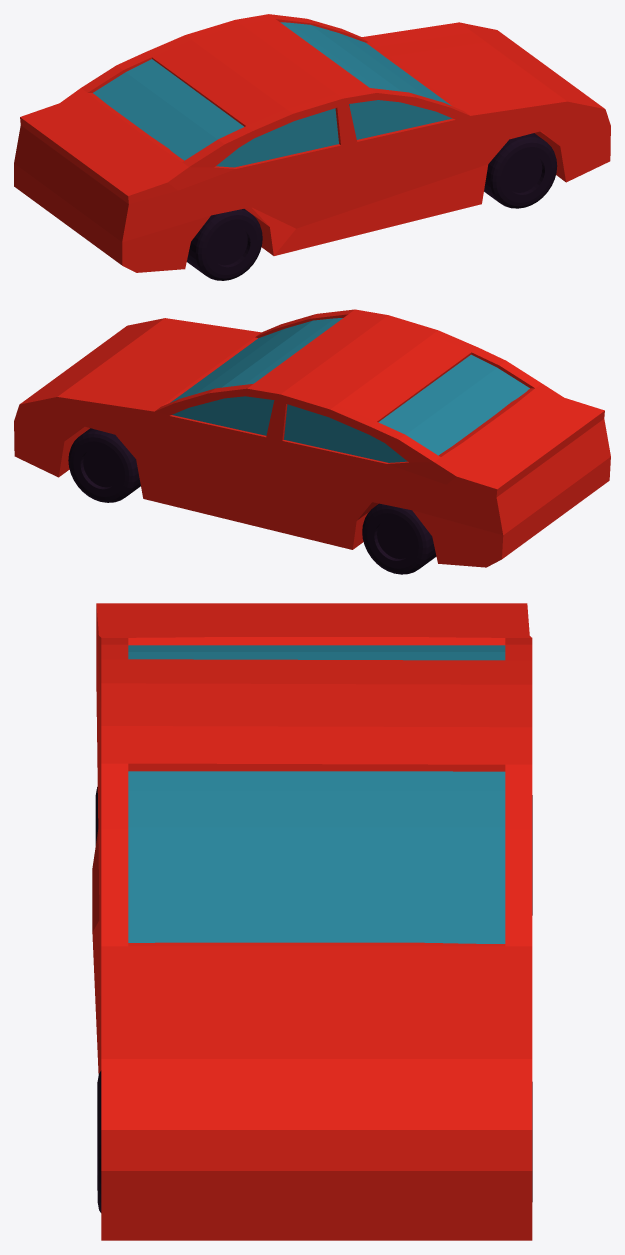
The model's file is car.fbx.
The picture shows the model from 3 angles, top to bottom: view 1: azimuth 30°, elevation 25°; view 2: azimuth 150°, elevation 25°; view 3: azimuth 270°, elevation 25°; orthographic projection. The views are drawn at different scales.
Visible parts, largest first — view 1: Cube, Cube.006, Cylinder.000, Cylinder.003, Cube.001, Cube.005, Cube.003; view 2: Cube, Cube.006, Cylinder.001, Cube.001, Cylinder.002, Cube.004, Cube.002; view 3: Cube, Cube.001, Cube.006.
Part boxes in pixels (bbox=[...]): Cube: bbox=[14, 14, 610, 272]; Cube.006: bbox=[93, 59, 243, 160]; Cylinder.000: bbox=[484, 133, 557, 208]; Cylinder.003: bbox=[187, 209, 262, 280]; Cube.001: bbox=[280, 22, 451, 105]; Cube.005: bbox=[216, 108, 338, 167]; Cube.003: bbox=[349, 100, 452, 139]; Cube: bbox=[14, 309, 610, 567]; Cube.006: bbox=[378, 354, 529, 455]; Cylinder.001: bbox=[68, 428, 140, 502]; Cube.001: bbox=[170, 318, 342, 402]; Cylinder.002: bbox=[362, 503, 436, 574]; Cube.004: bbox=[284, 404, 407, 462]; Cube.002: bbox=[172, 396, 274, 435]; Cube: bbox=[92, 603, 532, 1240]; Cube.001: bbox=[128, 771, 505, 943]; Cube.006: bbox=[128, 645, 505, 660].
Size of the model in its own units: 942 by 284 by 368.
